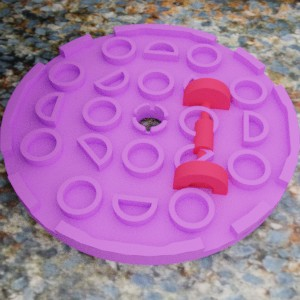lego: (0, 23, 299, 265), (172, 77, 230, 203)
